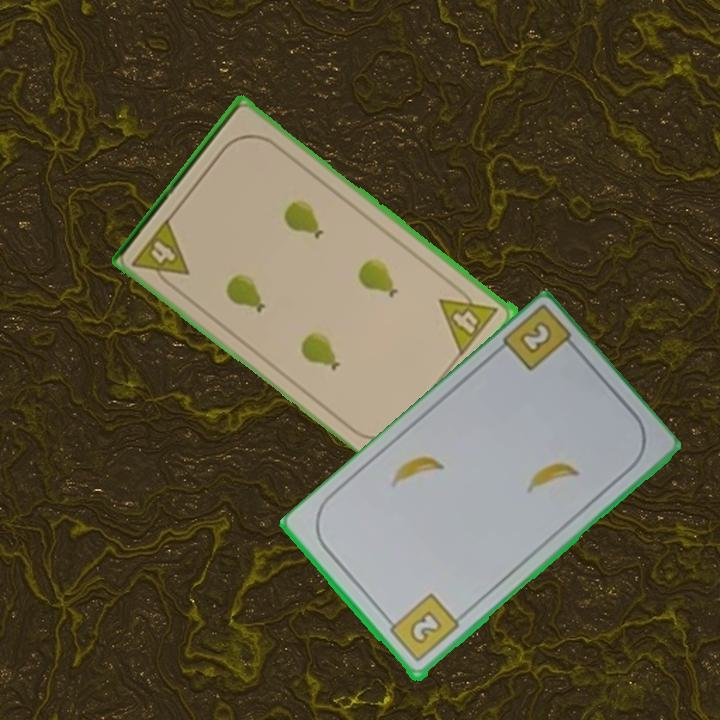2b: (382, 590, 463, 666), (515, 318, 555, 358)
4p: (128, 214, 193, 294), (436, 280, 502, 357)
